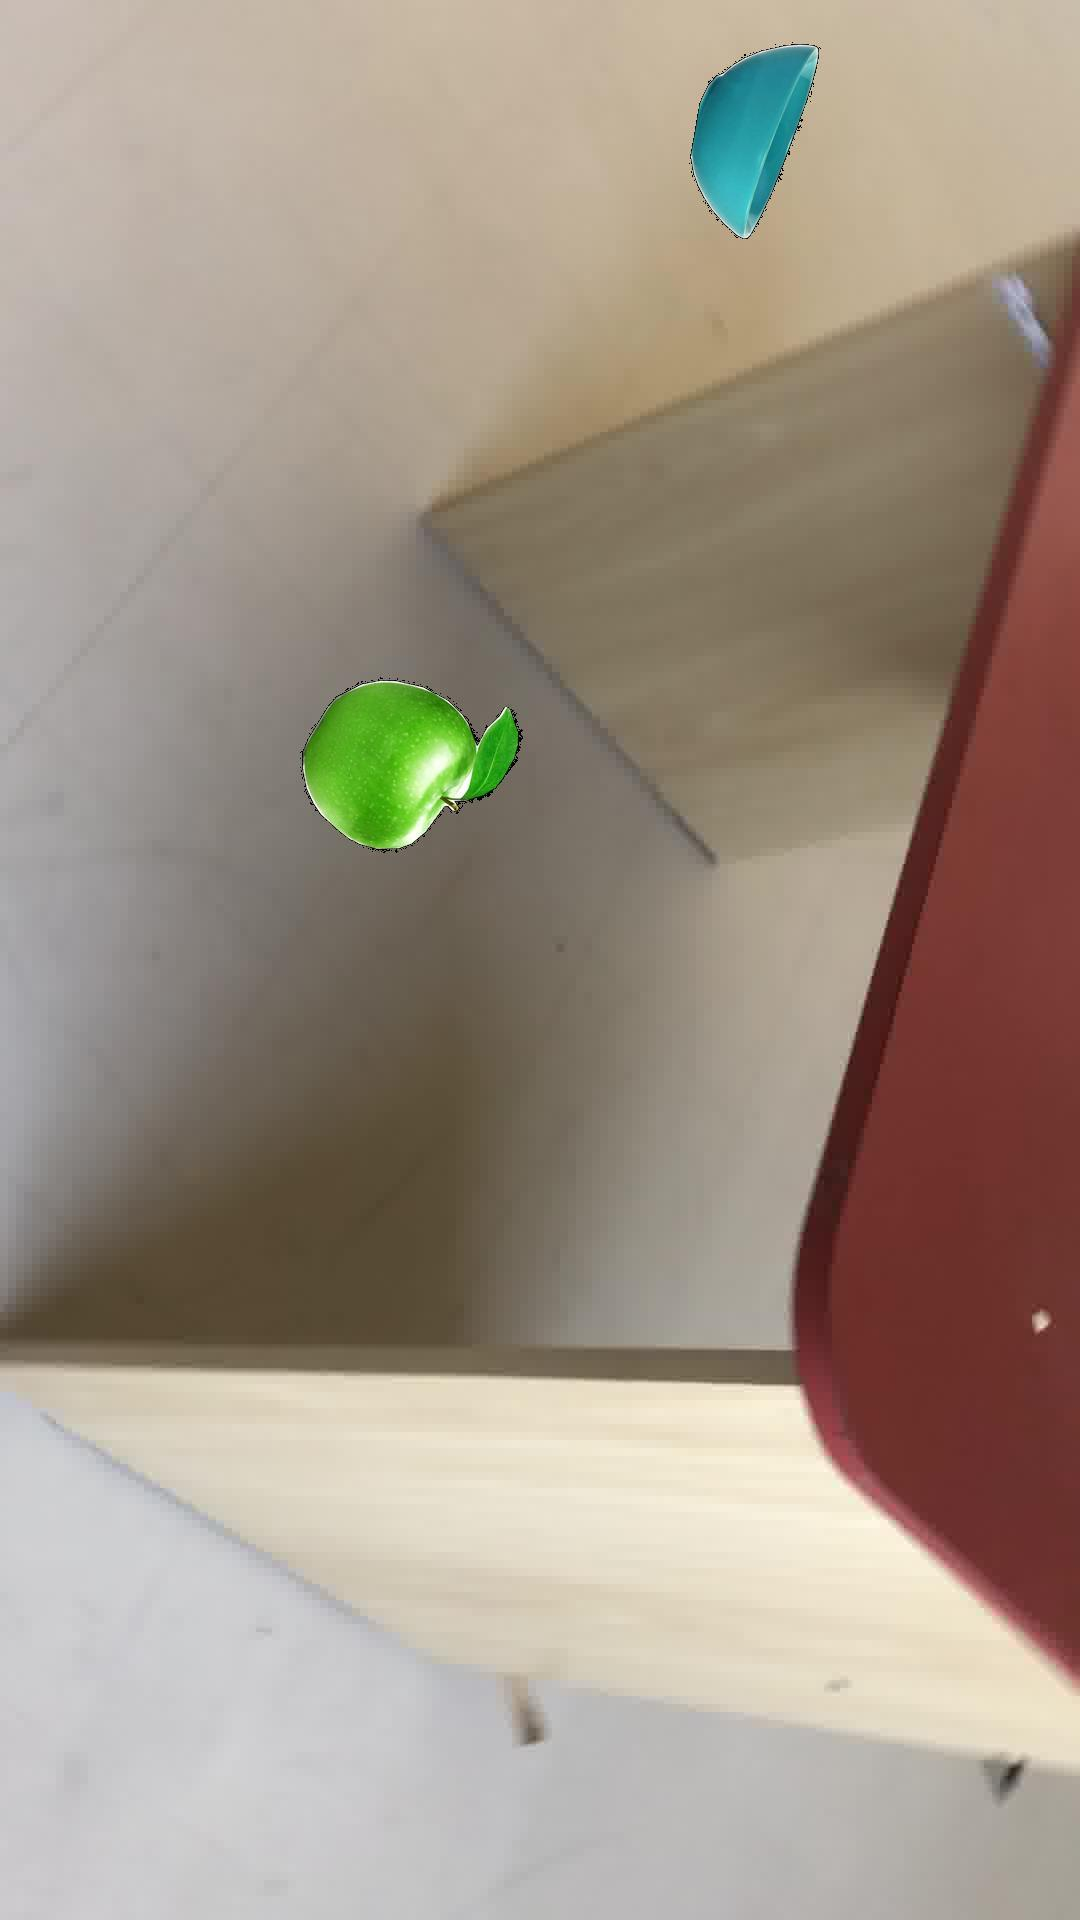bowl: (688, 44, 818, 237)
green apple: (299, 678, 521, 852)
